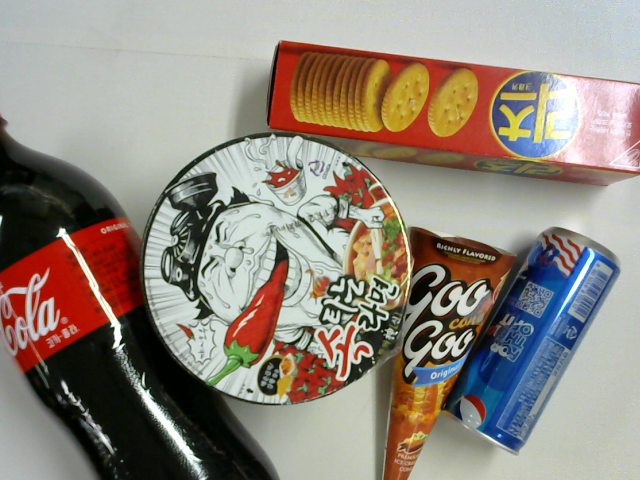Coca_Cola_1.5L: (1, 113, 283, 479)
GooGoo_Cone_CVS: (382, 229, 516, 480)
HeJangsock: (143, 129, 413, 403)
Pepsi_Cola_Can_250ml: (442, 227, 619, 456)
Ritz_Cracker: (267, 40, 640, 187)
